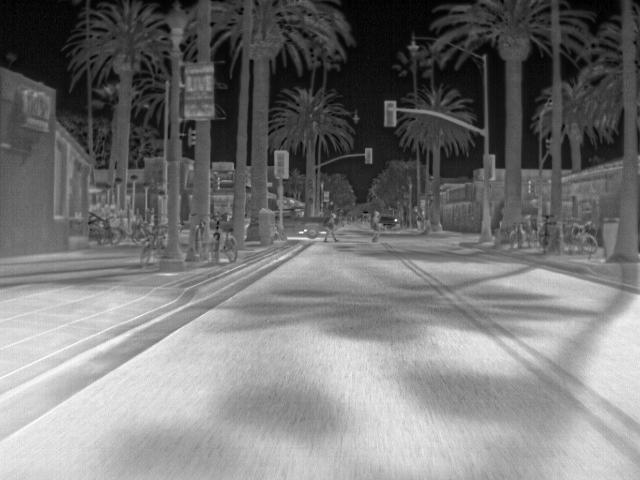car: (284, 207, 326, 239), (380, 214, 402, 232)
person: (133, 220, 152, 268), (325, 212, 339, 244), (371, 210, 382, 246), (416, 213, 423, 232)
